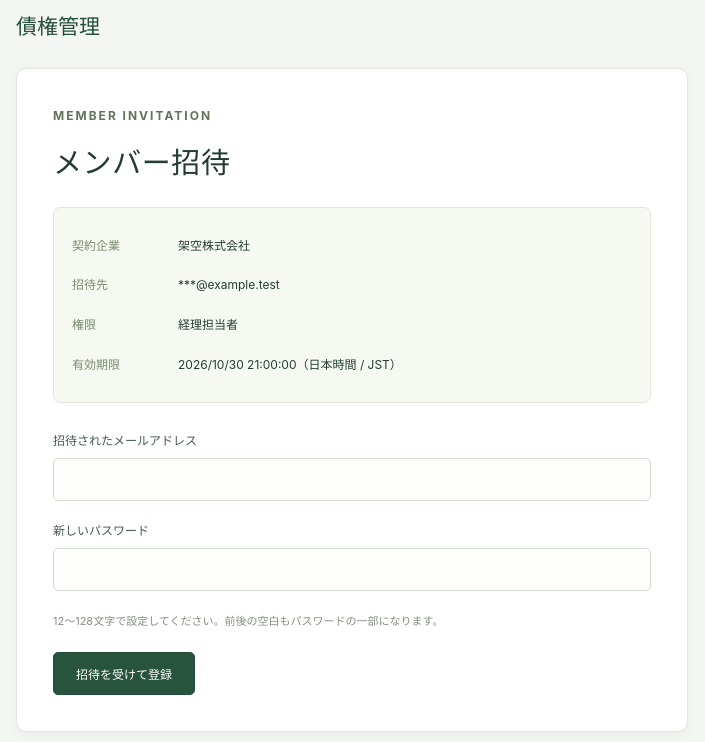
Member invitation › accepts without trimming the password and requires a separate login
This screenshot has width=705, height=742.
In the field labelled "招待されたメールアドレス": (352, 480) [53,458,651,501], type "new@example.test"
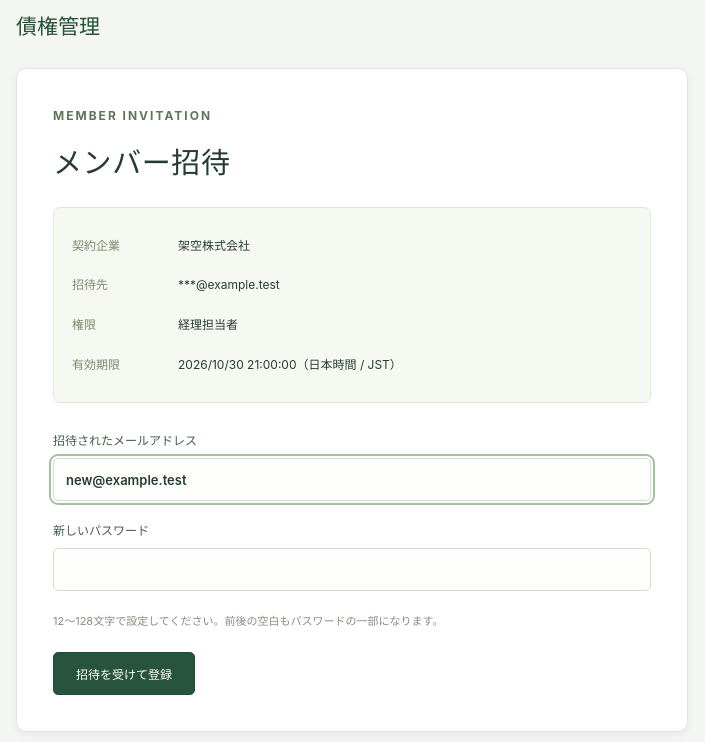
In the password field labelled "新しいパスワード": (352, 570) [53,548,651,591], type " a-new-password-with-spaces "
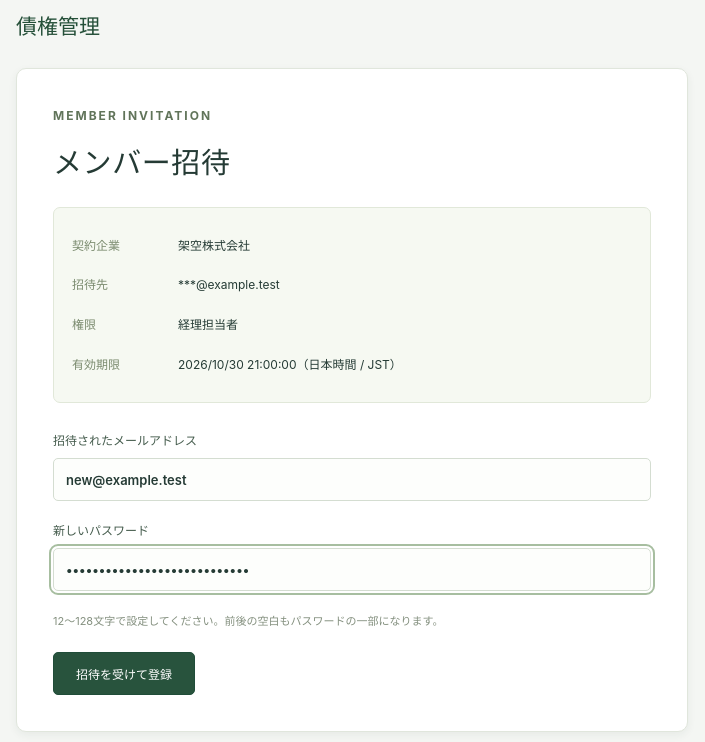
Click the button "招待を受けて登録": (124, 674) [53,652,195,695]
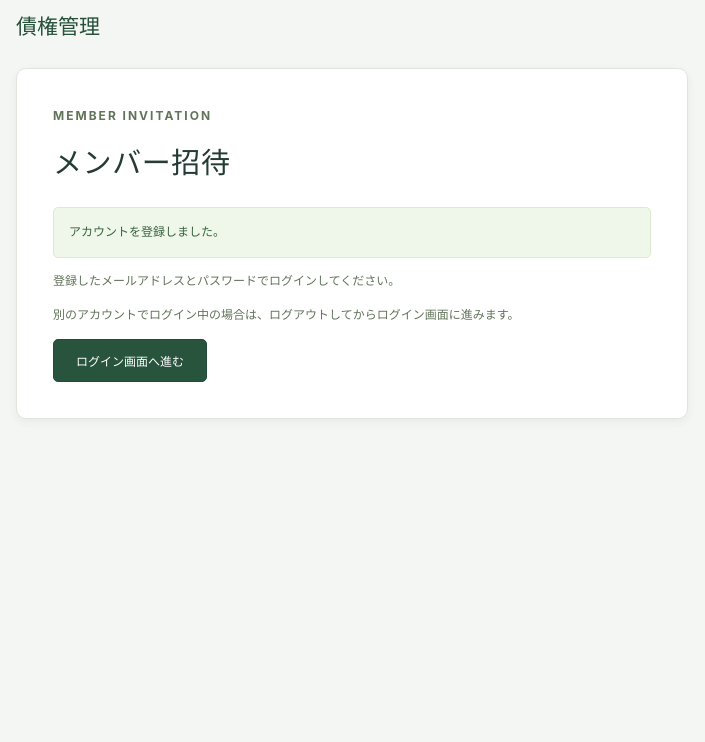
Expected: the message shows "アカウントを登録しました", [69,224,225,239]
Expected: the label labelled "新しいパスワード" is gone
